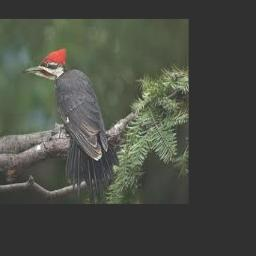Woodpecker: (24, 46, 118, 203)
